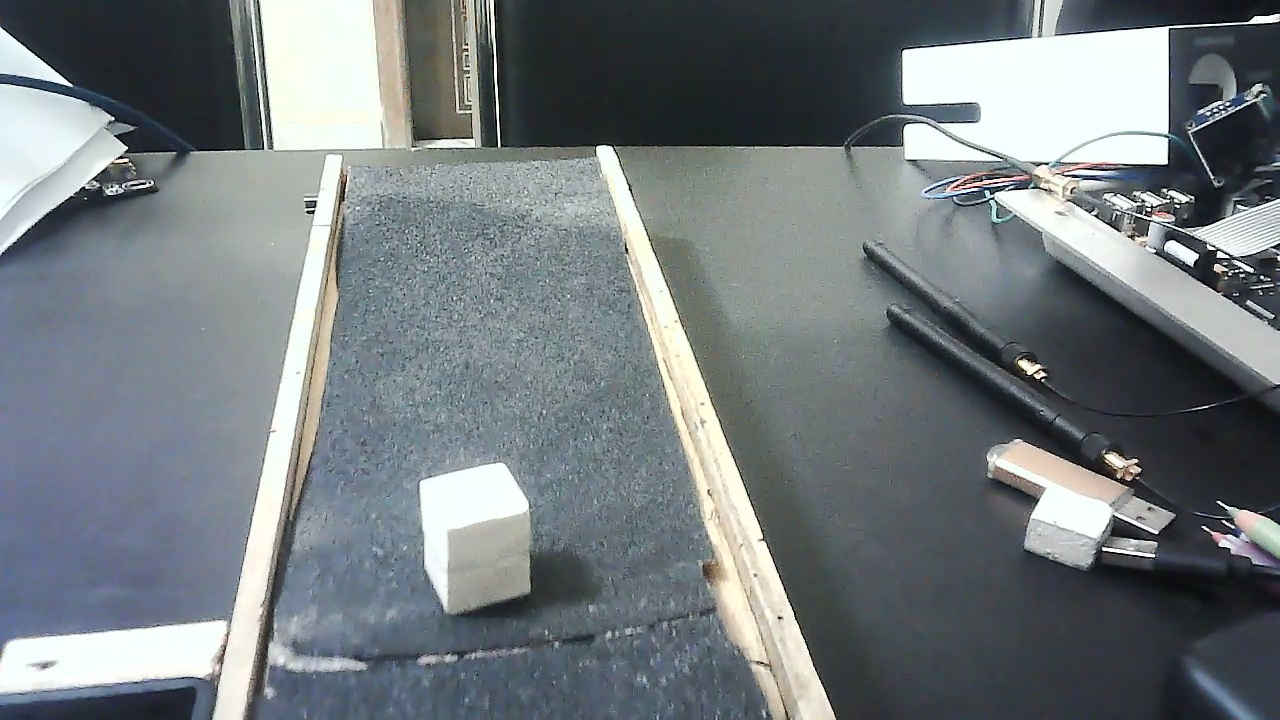Small: (398, 460, 550, 612)
